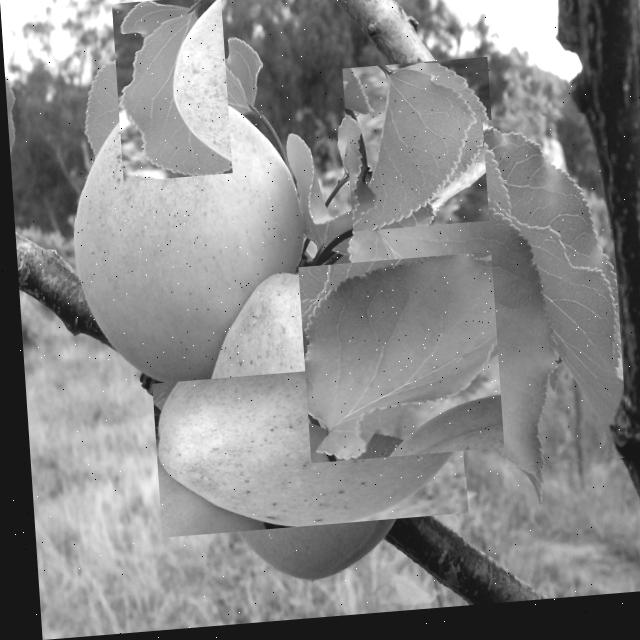Apricot: (73, 97, 296, 385), (150, 322, 455, 529)
Leaf: (318, 229, 577, 492), (482, 129, 615, 469), (336, 69, 498, 234), (116, 4, 231, 180), (4, 80, 18, 160)
